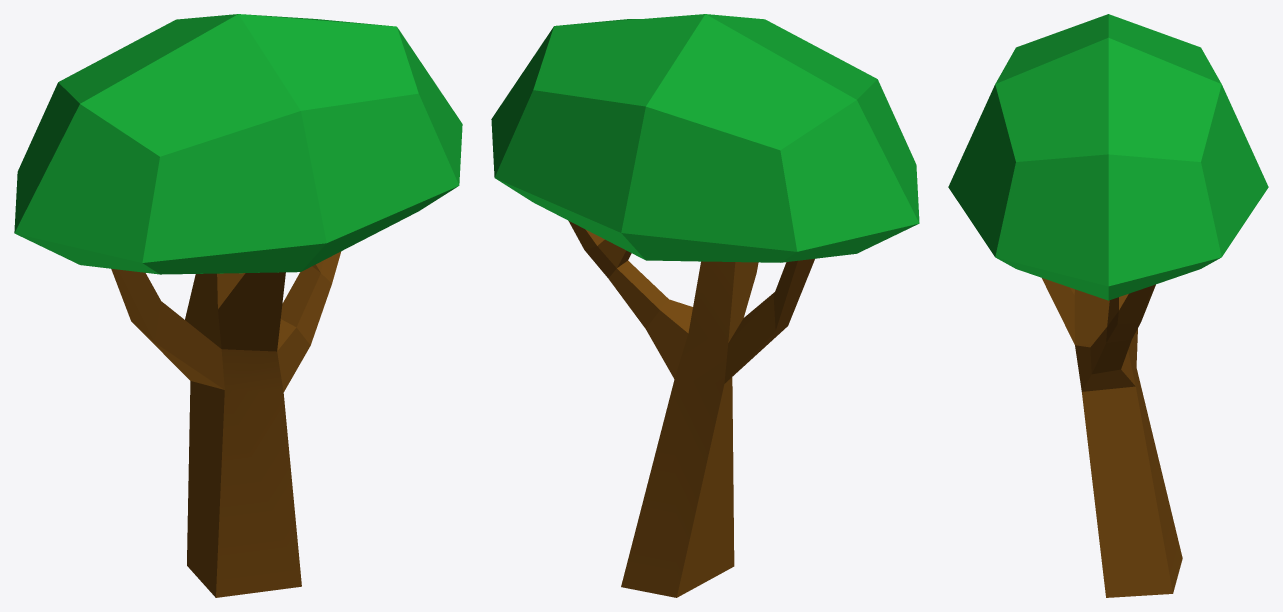
File: Tree005.FBX
3 renders of one model, left to right at view 1: azimuth 30°, elevation 25°; view 2: azimuth 150°, elevation 25°; view 3: azimuth 270°, elevation 25°, orthographic. The views are drawn at different scales.
Visible parts, largest first — view 1: Tree005; view 2: Tree005; view 3: Tree005.
Part boxes in pixels (x1=…): Tree005: x1=14, y1=14, x2=462, y2=597; Tree005: x1=491, y1=14, x2=919, y2=597; Tree005: x1=948, y1=14, x2=1268, y2=597.
Size of the model in its own units: 57.72 by 72.23 by 39.37.
